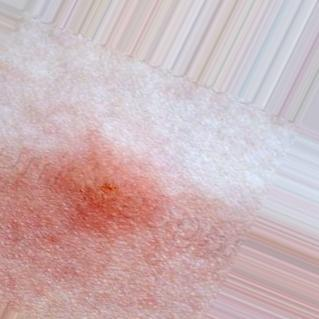Reupload: (28, 115, 177, 270)
